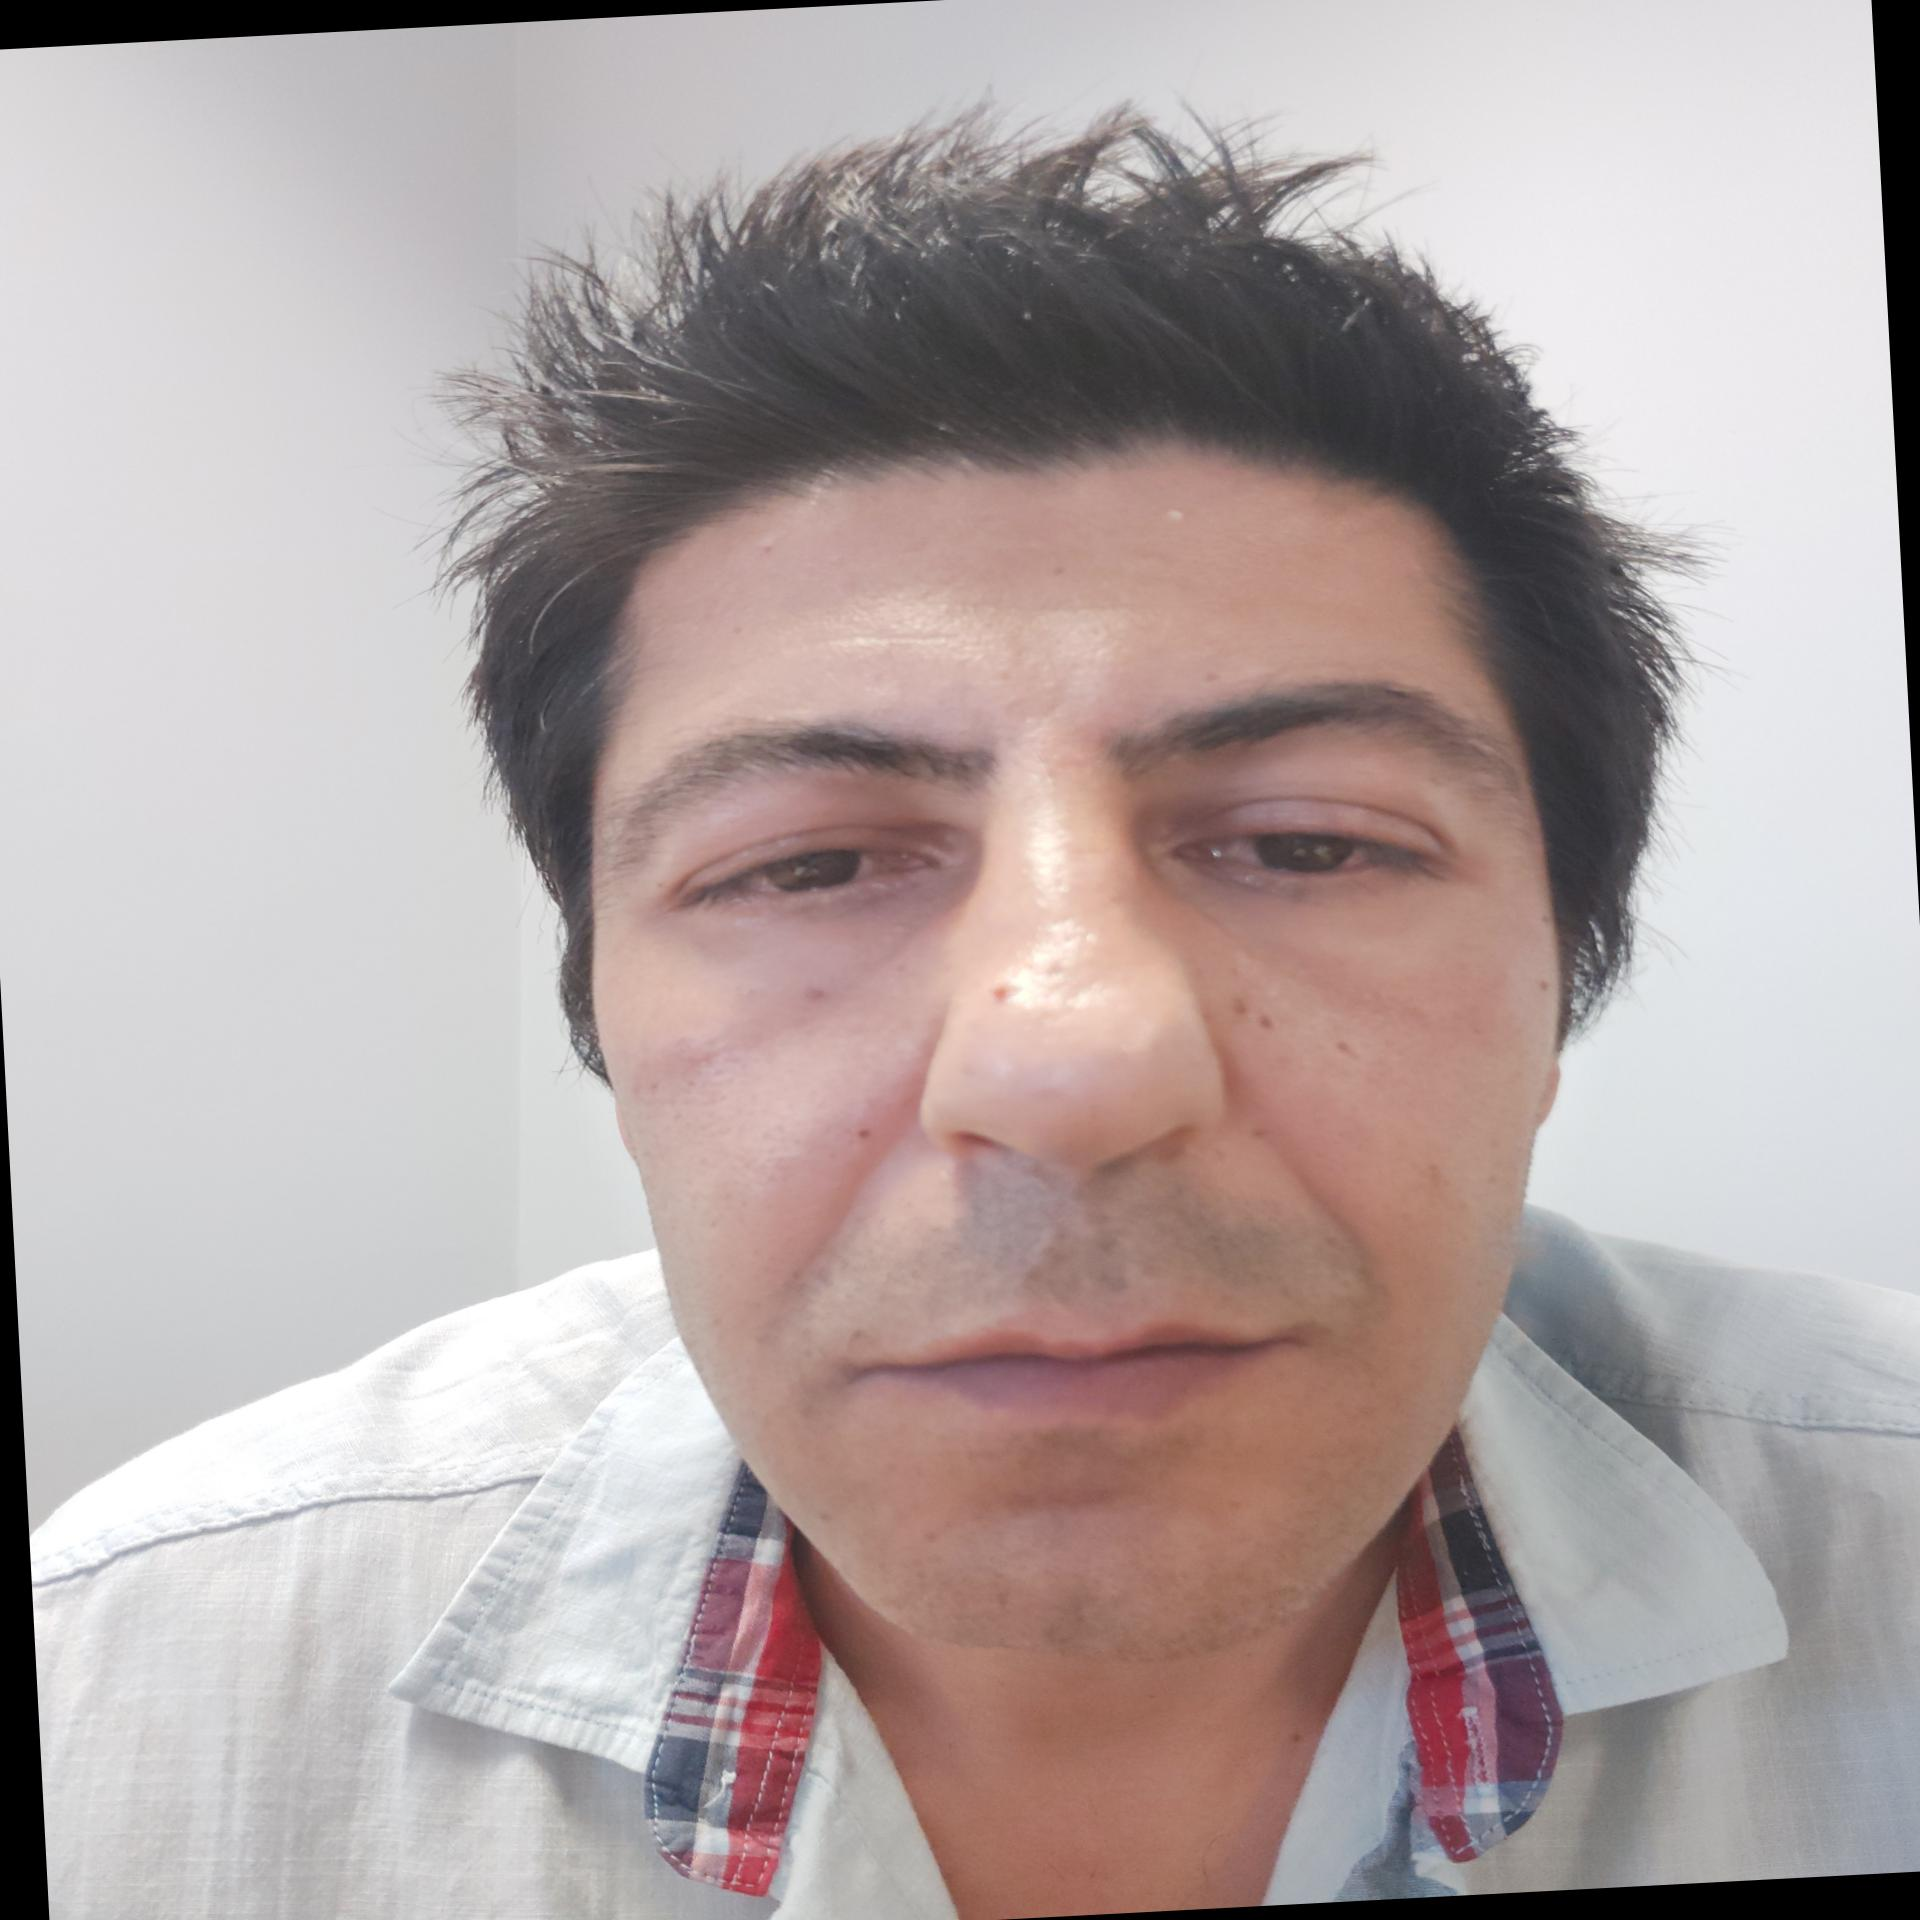Acne: (1155, 496, 1199, 529), (751, 527, 795, 557)
Englarged Pores: (1000, 832, 1109, 1023), (629, 1036, 768, 1125)
Wrinkles: (760, 1109, 932, 1312), (1240, 1108, 1393, 1326), (932, 584, 1160, 617), (795, 621, 976, 656)
